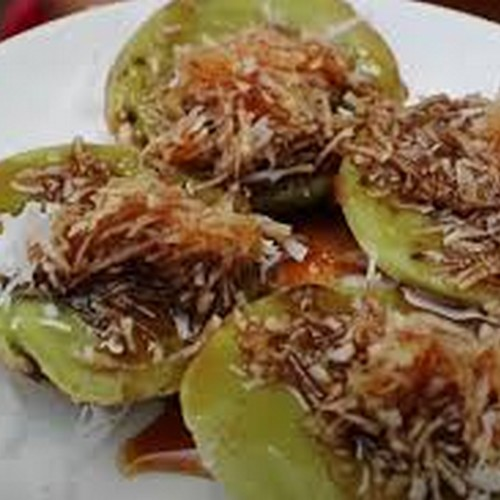laklak: (28, 36, 488, 490)
